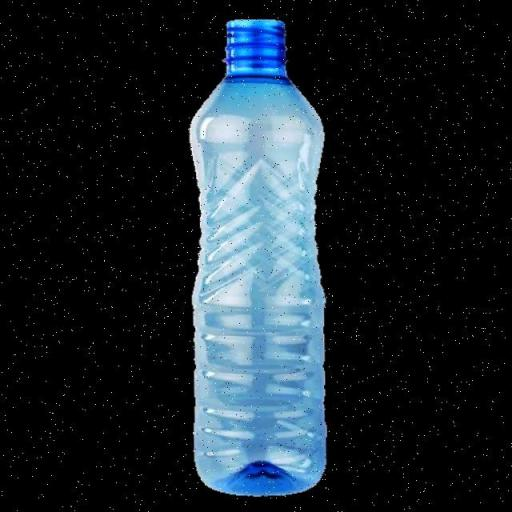plastic: (187, 19, 333, 494)
